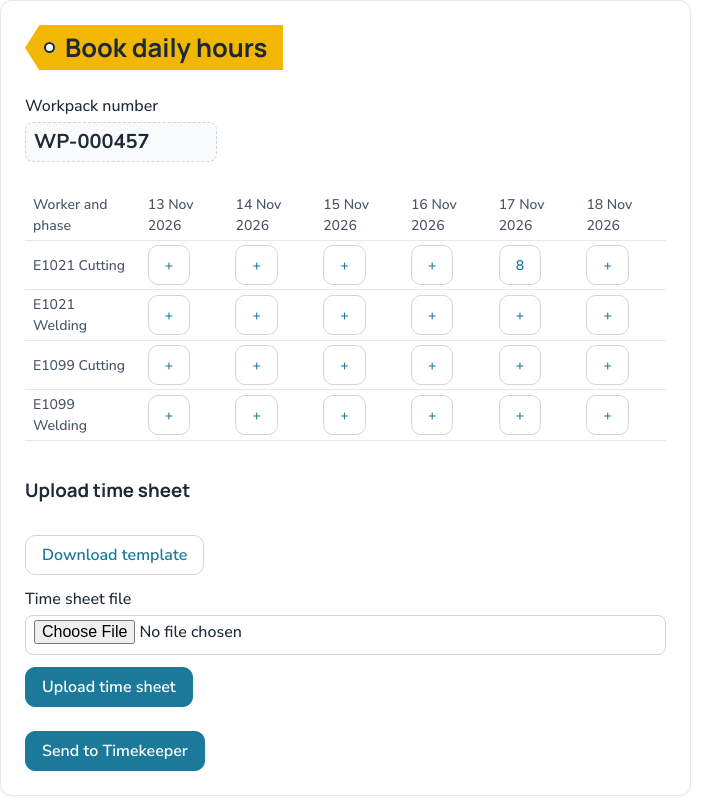
Scenario: BookHours › BPA50_aSubmittedLineCannotBeChangedOrDeleted
The width and height of the screenshot is (708, 810).
Click the button named "E1021 Cutting 17 Nov 2026" at (520, 265), box x1=499 y1=245 x2=541 y2=285
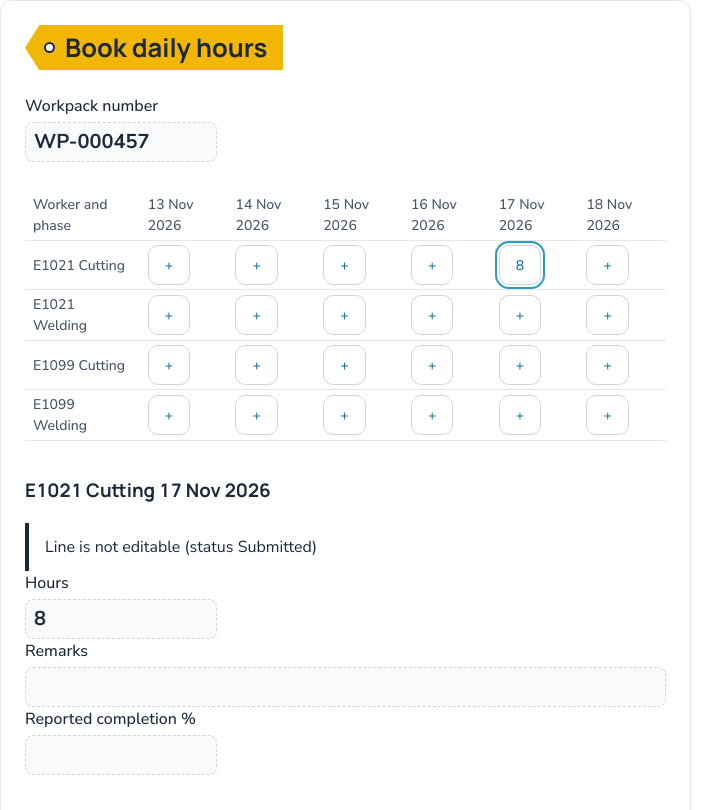
Now the text "Line is not editable (status Submitted)" is shown, box x1=25 y1=523 x2=666 y2=571
